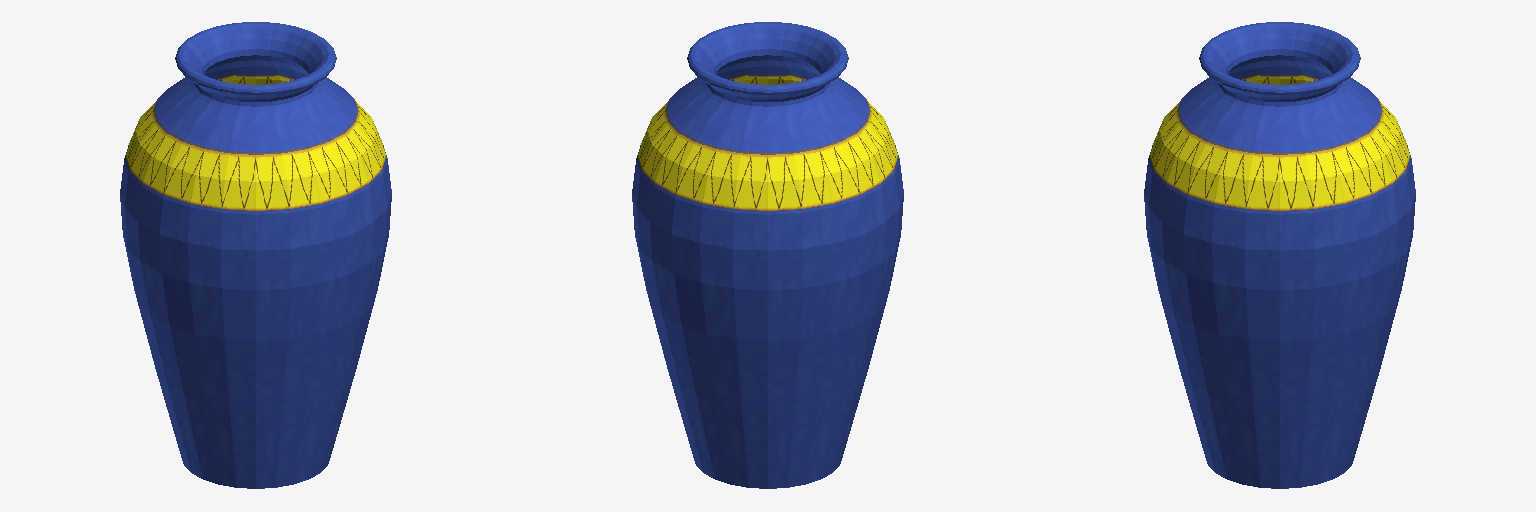
3 views of the same model, side by side, from view 1: azimuth 30°, elevation 25°; view 2: azimuth 150°, elevation 25°; view 3: azimuth 270°, elevation 25° (orthographic).
Parts seen in each view (by area): view 1: jar_Plane; view 2: jar_Plane; view 3: jar_Plane.
Boxes of the visible parts, <box> form: jar_Plane: <box>120,22,391,488</box>; jar_Plane: <box>632,22,903,488</box>; jar_Plane: <box>1144,22,1415,488</box>.
Size of the model in its own units: 0.611 by 1 by 0.611.
Materials: 2 (1 with a texture image).